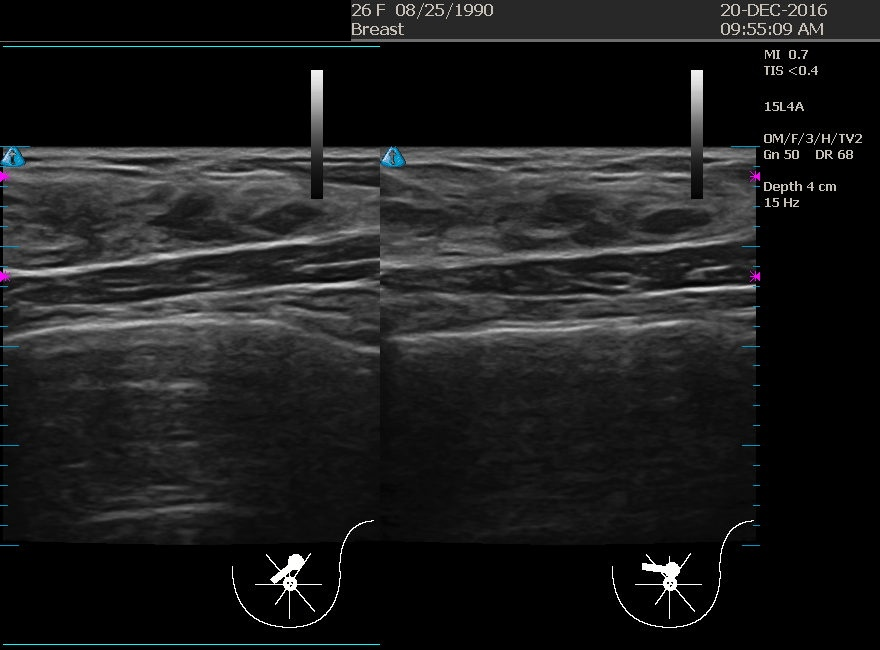BIRADS_2: (173, 200, 373, 400), (539, 204, 739, 404)
